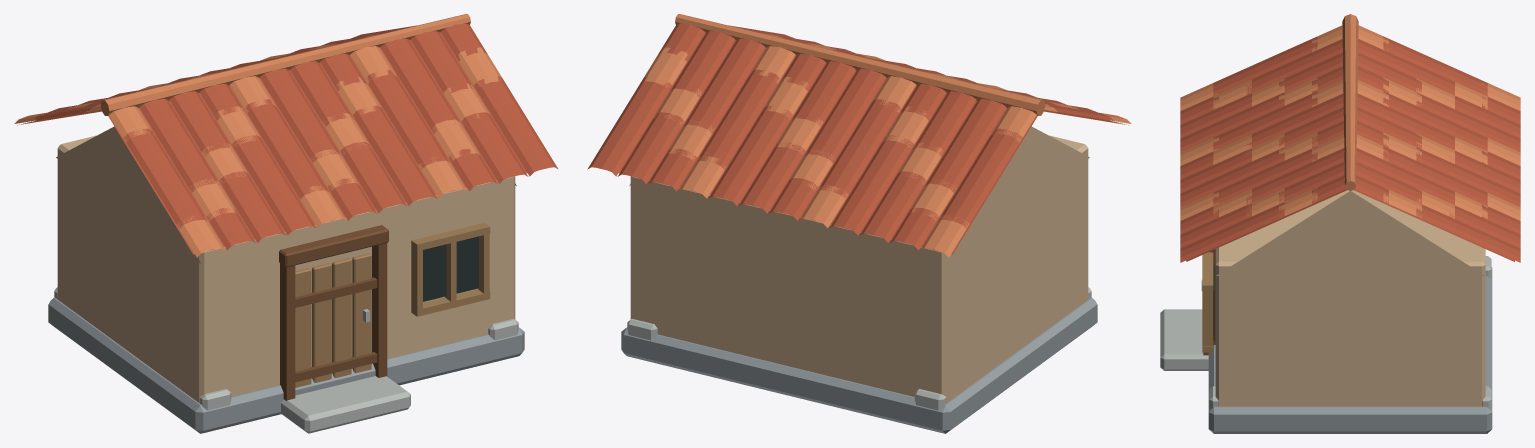
The model's file is Casa_Adobe.fbx.
The picture shows the model from 3 angles, left to right: view 1: azimuth 30°, elevation 25°; view 2: azimuth 150°, elevation 25°; view 3: azimuth 270°, elevation 25°; orthographic projection. The views are drawn at different scales.
Parts seen in each view (by area): view 1: Casa_Adobe; view 2: Casa_Adobe; view 3: Casa_Adobe.
Part boxes in pixels (x1=…): Casa_Adobe: x1=14, y1=14, x2=558, y2=433; Casa_Adobe: x1=587, y1=14, x2=1131, y2=433; Casa_Adobe: x1=1160, y1=14, x2=1520, y2=433.
Size of the model in its own units: 5.05 by 3.8 by 4.67.
